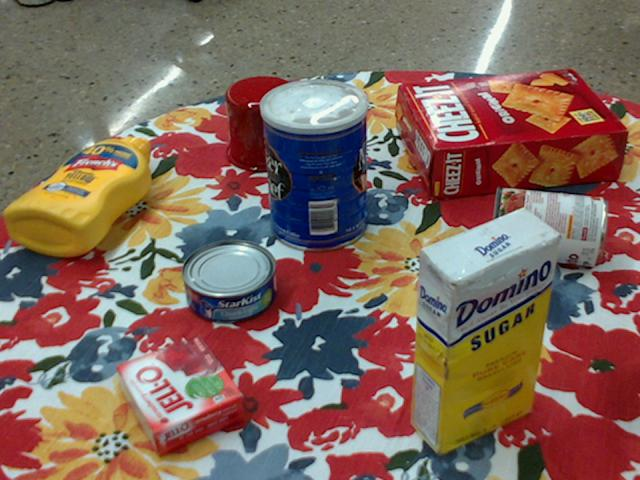cracker_box: (398, 70, 628, 200)
gelatin_box: (118, 338, 246, 460)
master_chef_can: (260, 78, 368, 251)
mug: (225, 76, 322, 172)
mustard_bottle: (4, 136, 150, 256)
sugar_box: (412, 206, 560, 457)
tomato_soup_can: (492, 186, 608, 263)
tuna_fish_can: (180, 241, 276, 324)
